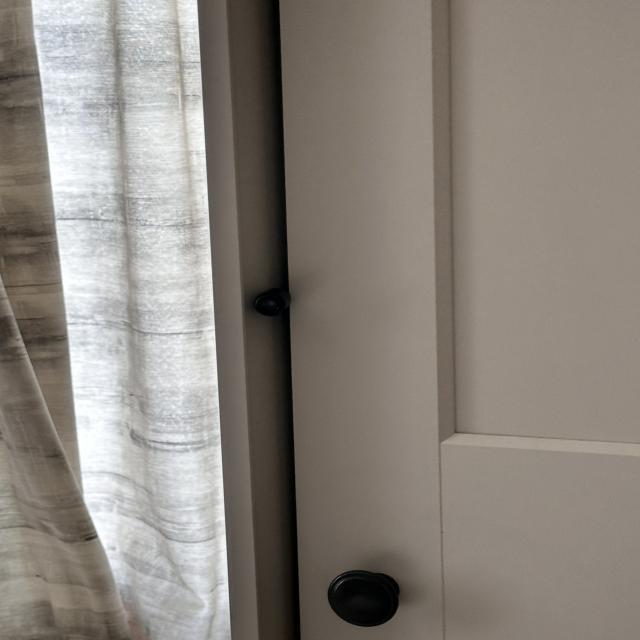hidden camera: (254, 295, 285, 316)
